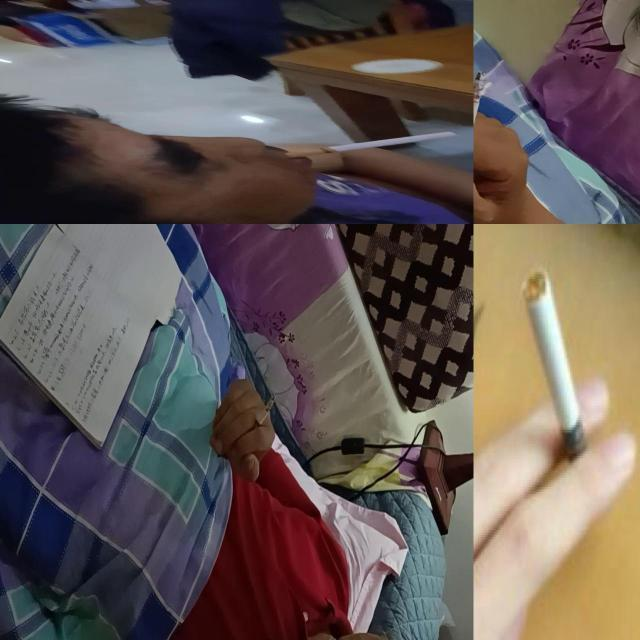smoking: (520, 265, 592, 479), (284, 132, 462, 158), (473, 72, 487, 142), (253, 398, 274, 431)
